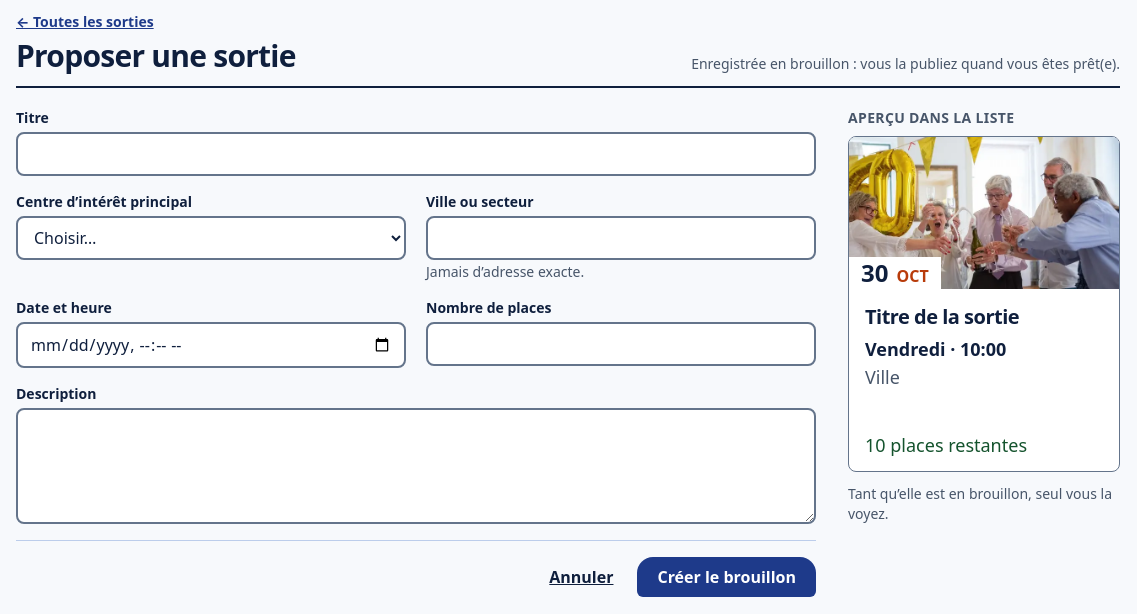
Test: EventFormView › tient en une seule page avec un aperçu de la carte qui suit la saisie
Check: the element named "Aperçu de la sortie" shows "Titre de la sortie", box 865,303 -> 1019,330
Type "Marche douce" into the field with id "title" at (416, 154), box 16,132 -> 816,176
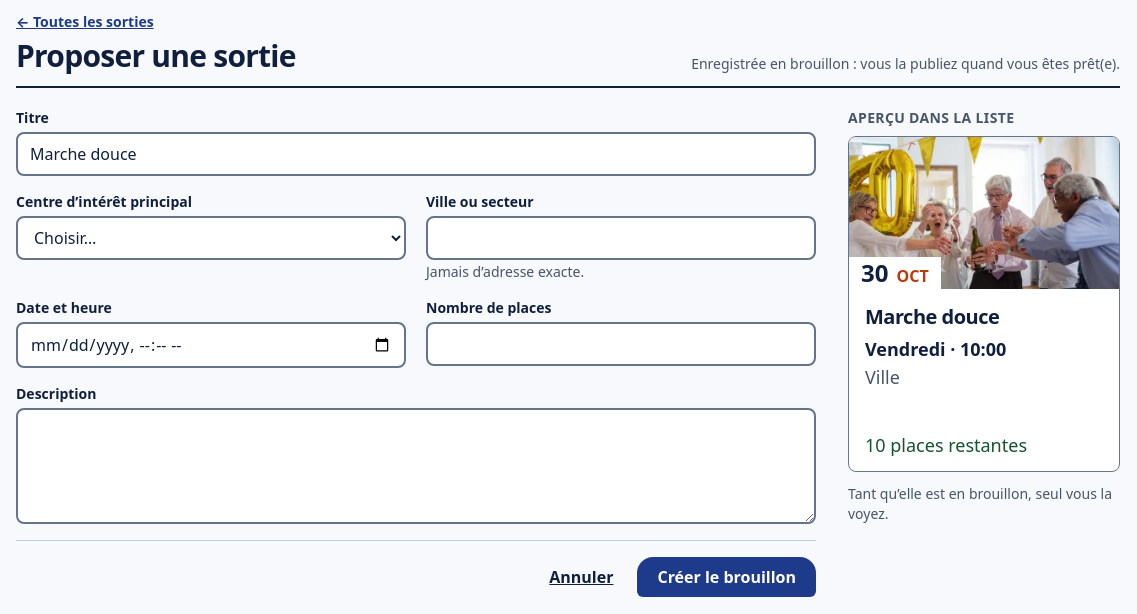
Type "Annecy" into the dropdown with id "approximateLocation" at (621, 238), box 426,216 -> 816,260
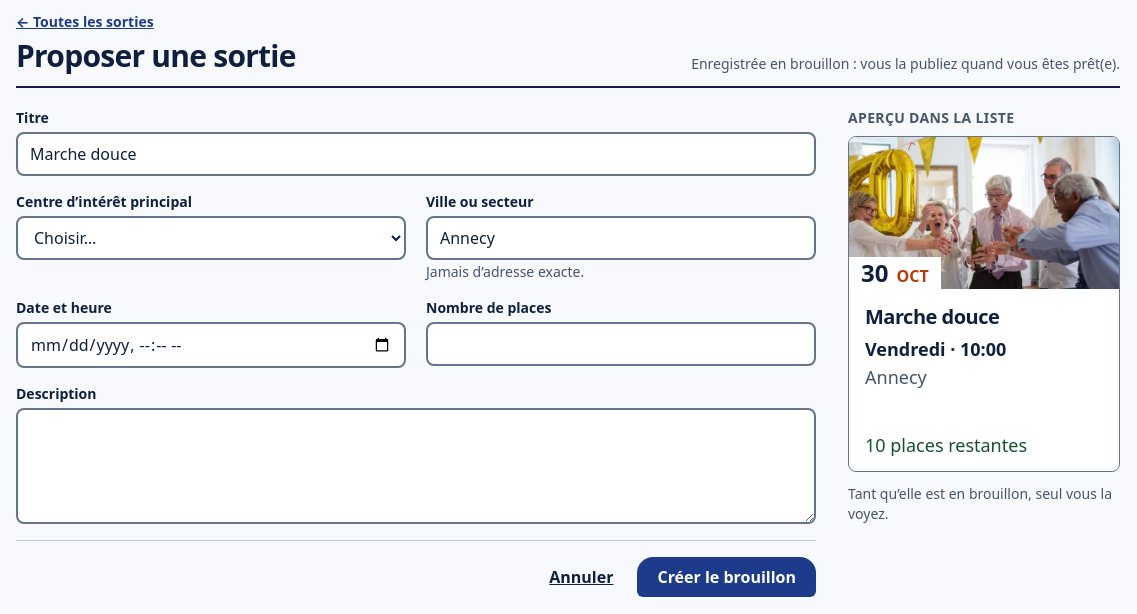
Check: the dropdown with id "mainInterestId" is shown, box 16,216 -> 406,260
Check: the element named "Aperçu de la sortie" shows "Marche douce", box 865,303 -> 999,330
Check: the element named "Aperçu de la sortie" shows "Annecy", box 865,364 -> 927,388
